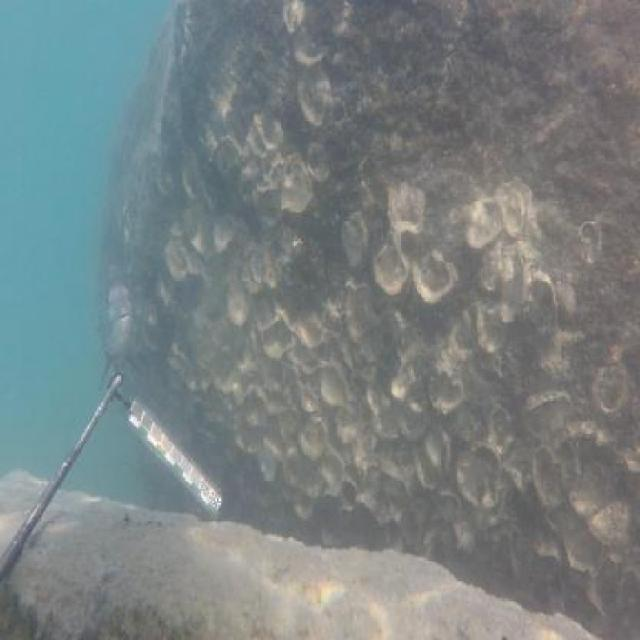acanthopagrus_palmaris: (96, 246, 138, 385)
